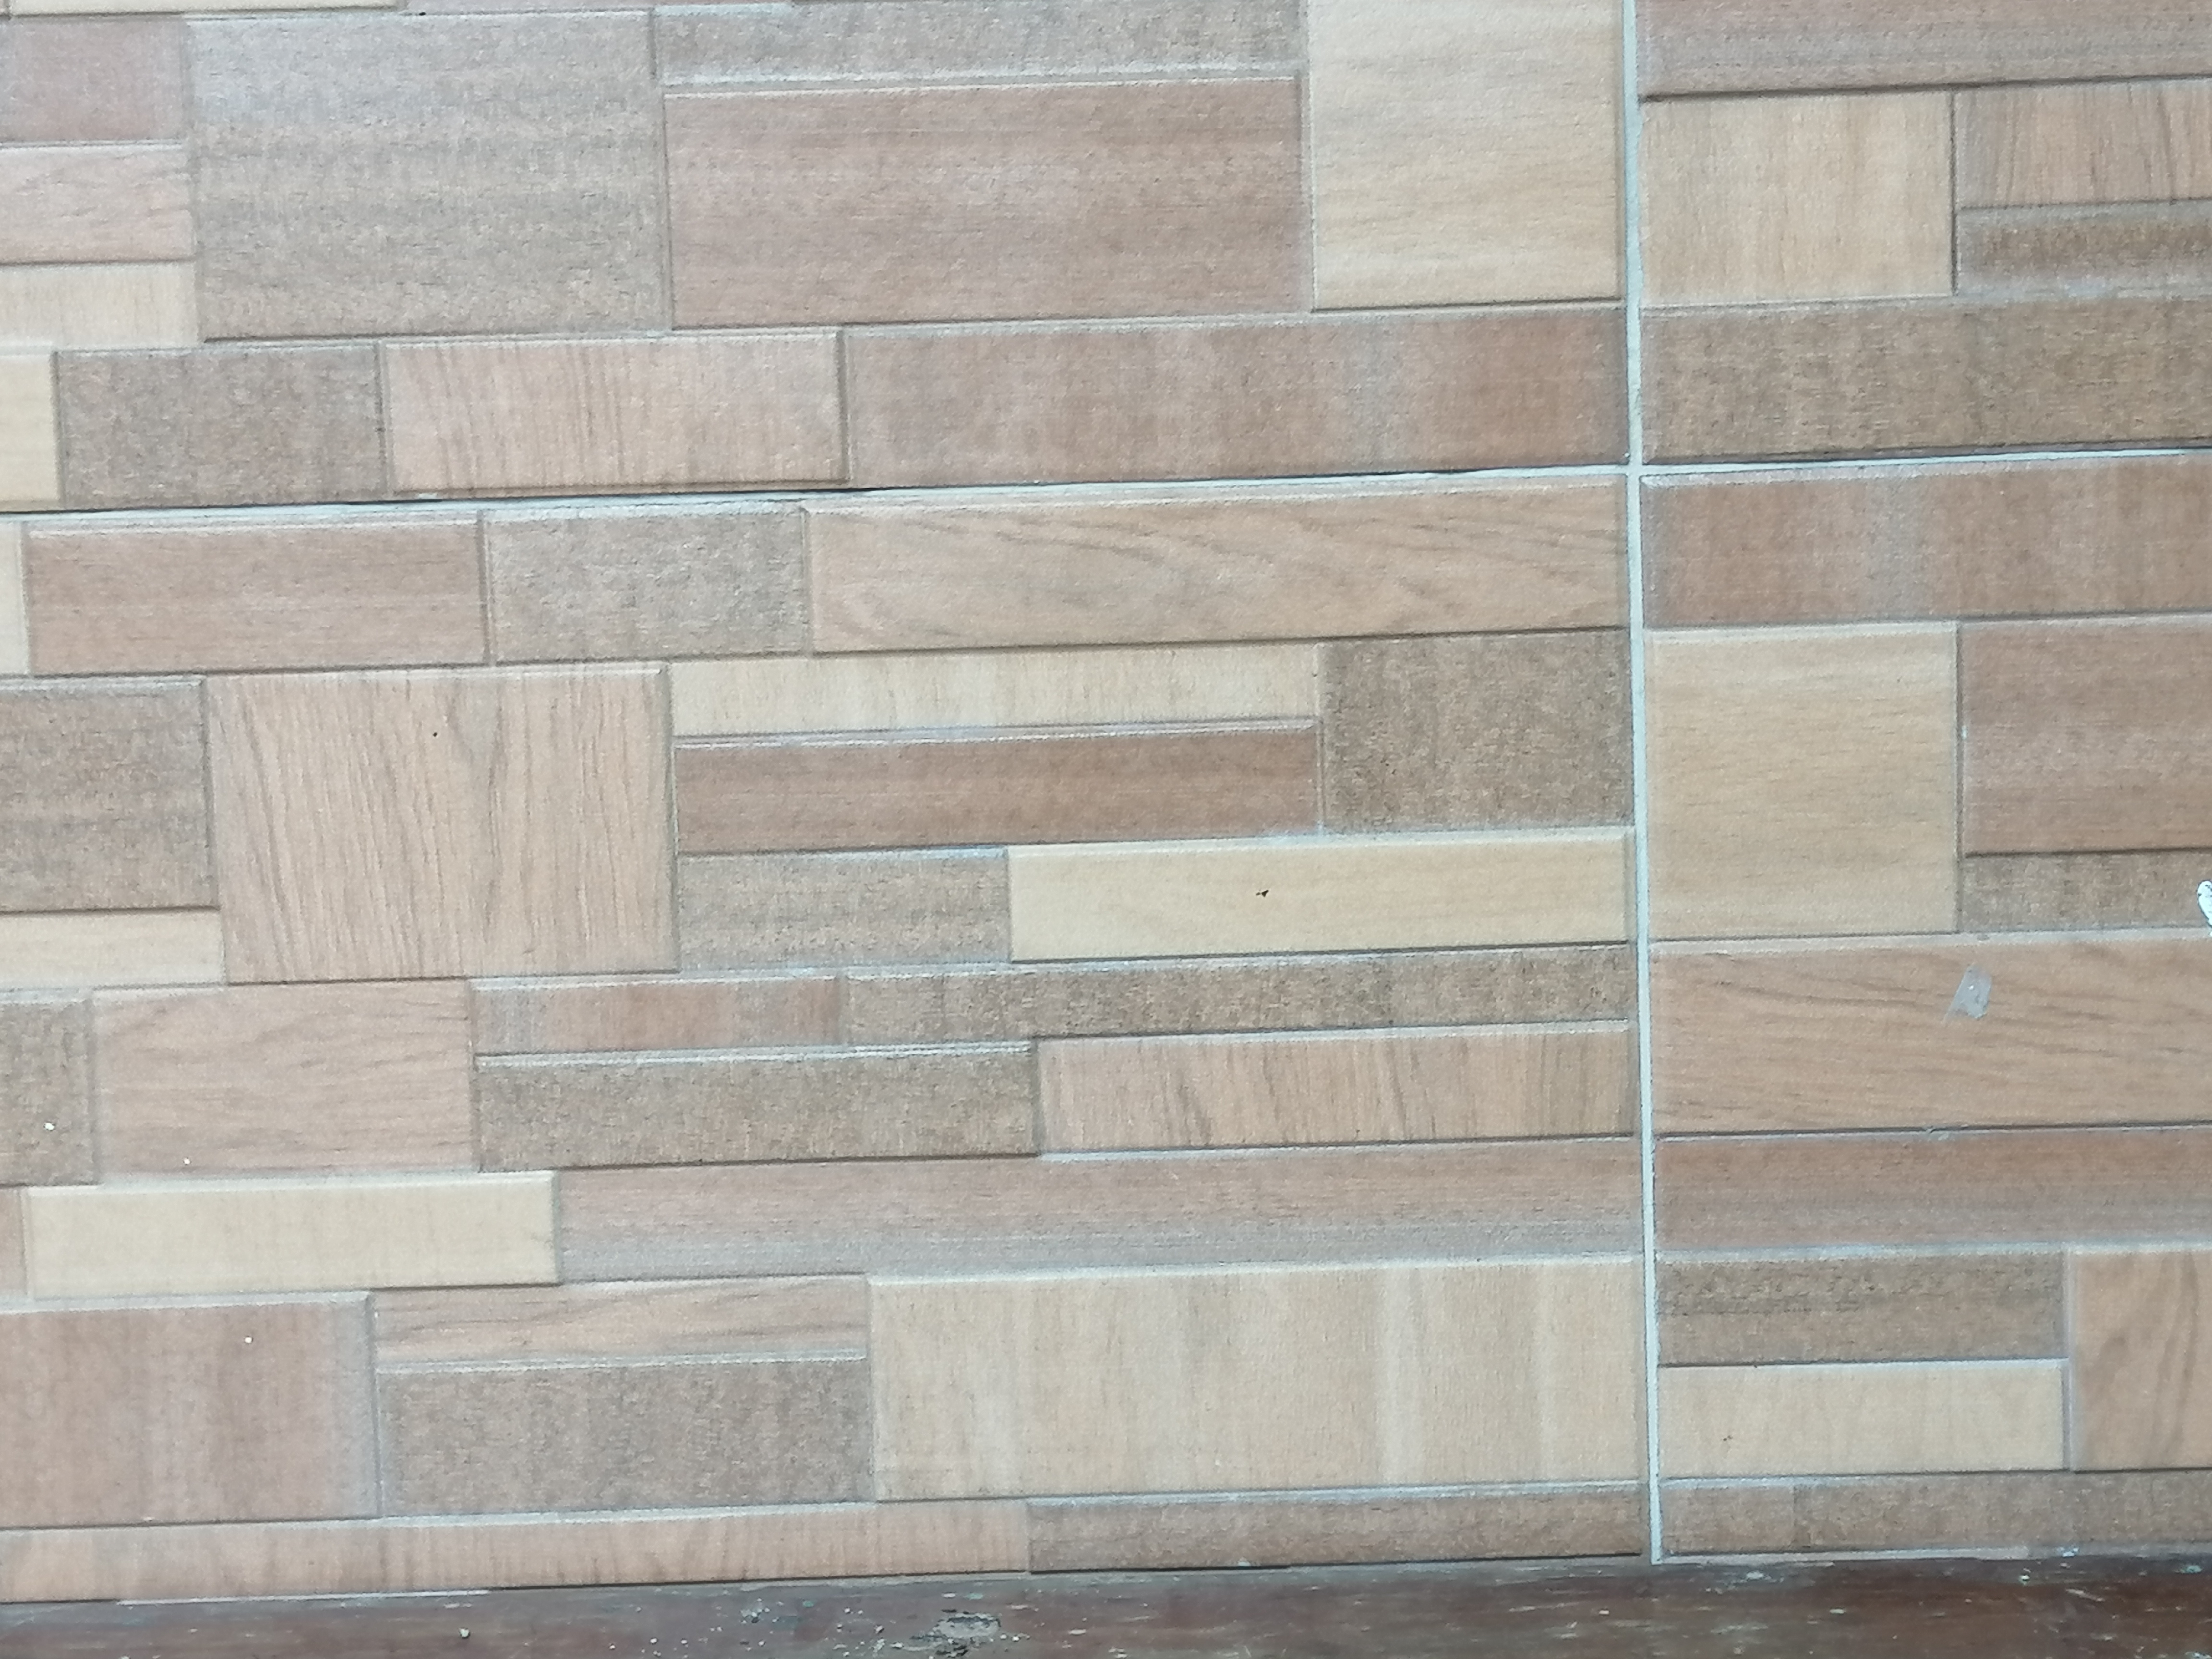wall: (7, 9, 2212, 1556)
